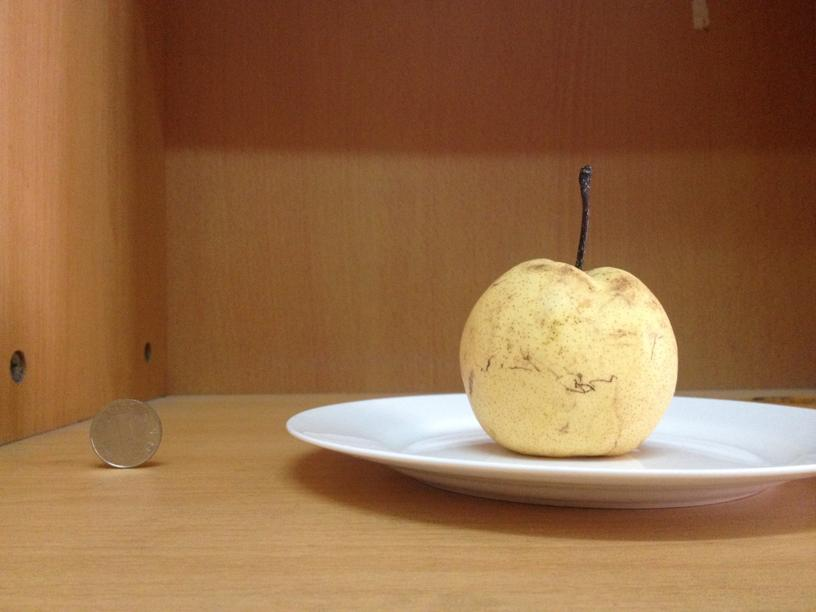coin: (87, 398, 166, 468)
pear: (463, 257, 679, 458)
